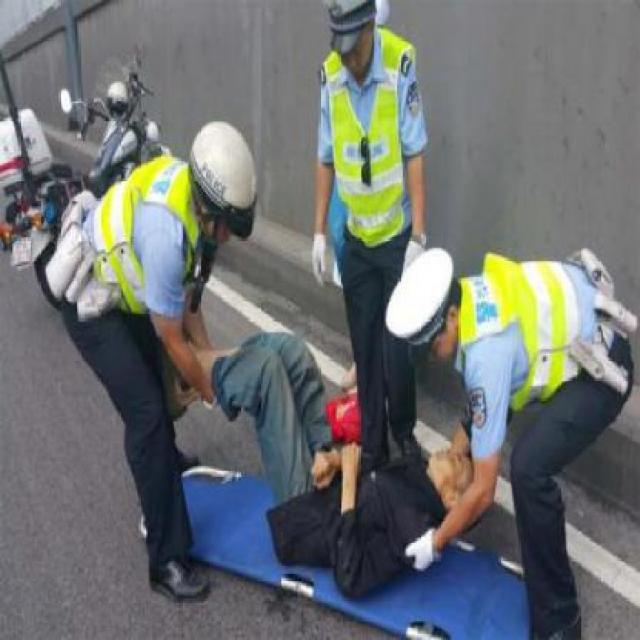fall: (164, 304, 488, 608)
